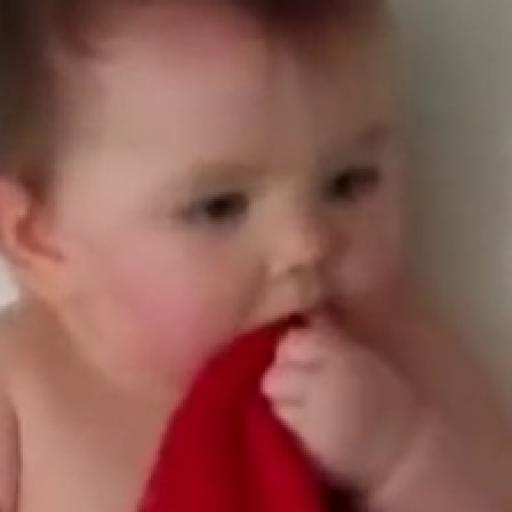Autism: (3, 5, 436, 434)
